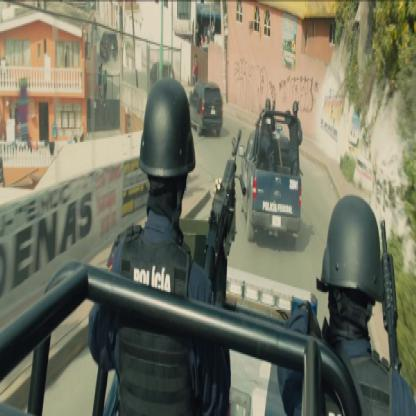Guns: (198, 126, 244, 318), (378, 218, 408, 404)
